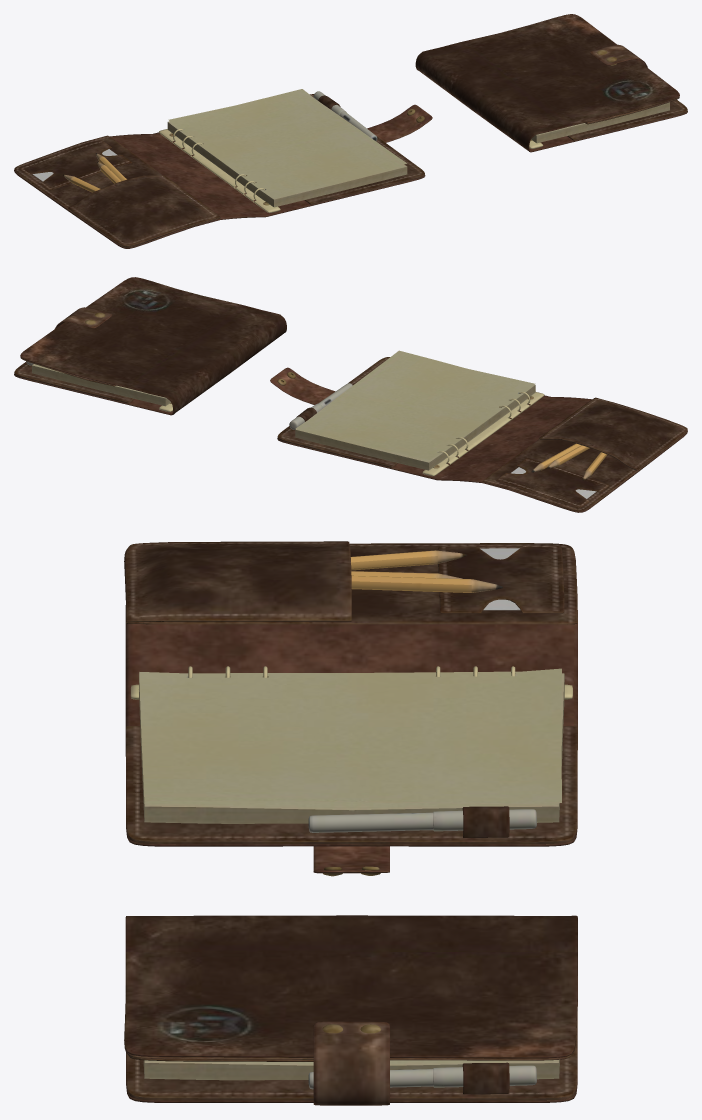
The model's file is binder_notebook.glb.
3 renders of one model, top to bottom at view 1: azimuth 30°, elevation 25°; view 2: azimuth 150°, elevation 25°; view 3: azimuth 270°, elevation 25°, orthographic. The views are drawn at different scales.
Parts seen in each view (by area): view 1: binder_notebook, binder_notebook_closed; view 2: binder_notebook, binder_notebook_closed; view 3: binder_notebook, binder_notebook_closed.
Boxes of the visible parts, x1=… form: binder_notebook: x1=14, y1=89, x2=432, y2=248; binder_notebook_closed: x1=415, y1=14, x2=687, y2=152; binder_notebook: x1=270, y1=350, x2=687, y2=512; binder_notebook_closed: x1=14, y1=277, x2=286, y2=415; binder_notebook: x1=124, y1=541, x2=577, y2=876; binder_notebook_closed: x1=124, y1=915, x2=577, y2=1105.
Size of the model in its own units: 0.584 by 0.0253 by 0.2.
1 material, 1 textured.
